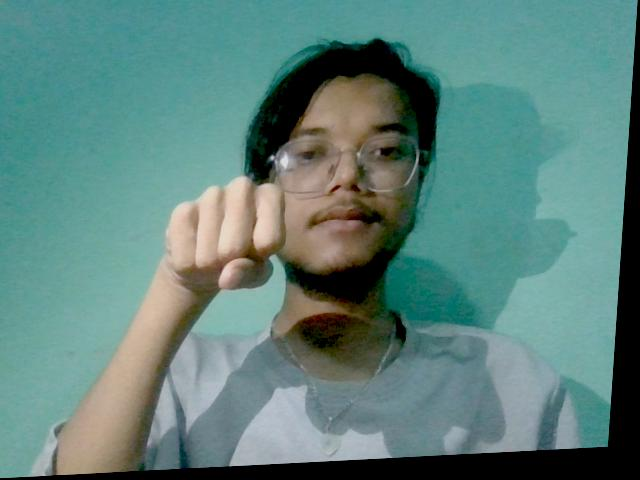Yes: (142, 163, 303, 322)
